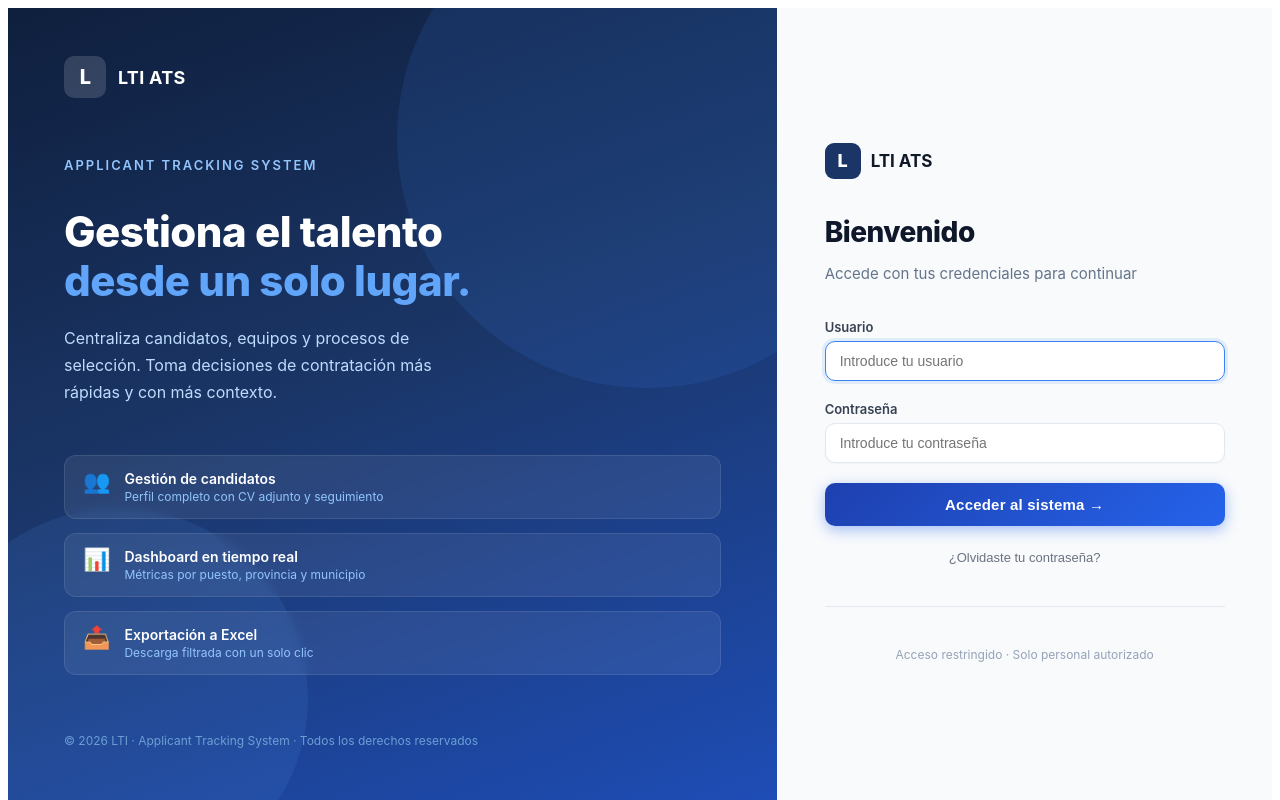
Scenario: LoginPage › shows a generic error when login fails
The width and height of the screenshot is (1280, 800).
In the field labelled "Usuario": point(1025, 360) [825,340,1225,380], type "admin"
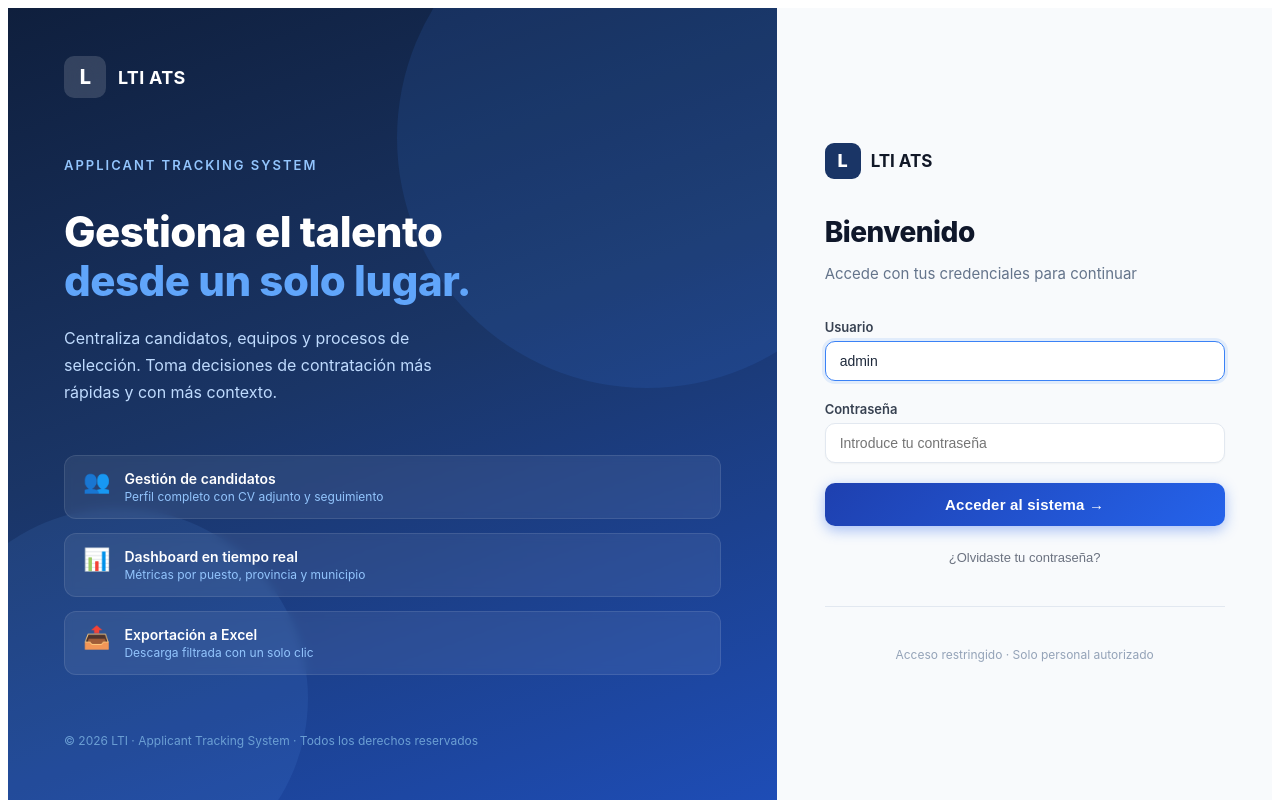
In the password field labelled "Contraseña": point(1025, 442) [825,422,1225,462], type "wrongpass"
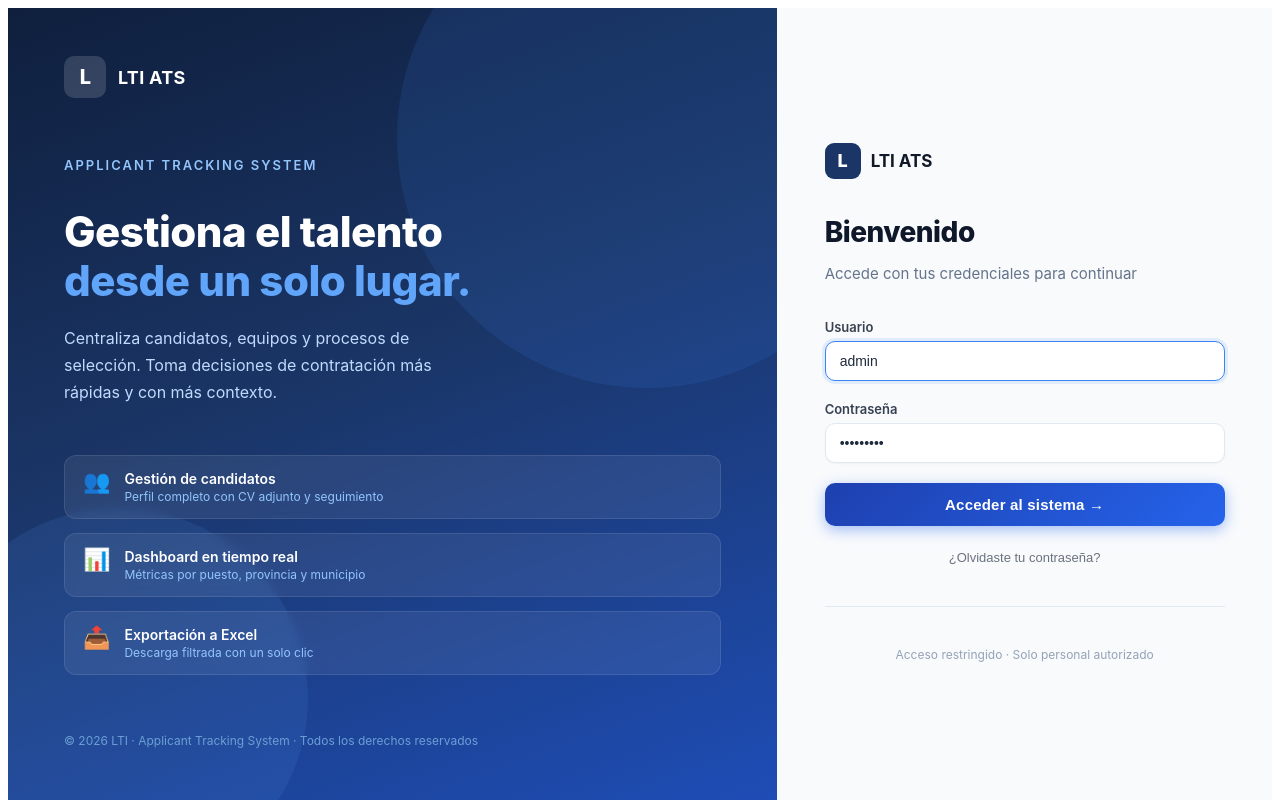
Click the button "Acceder al sistema →": point(1025, 504) [825,482,1225,526]
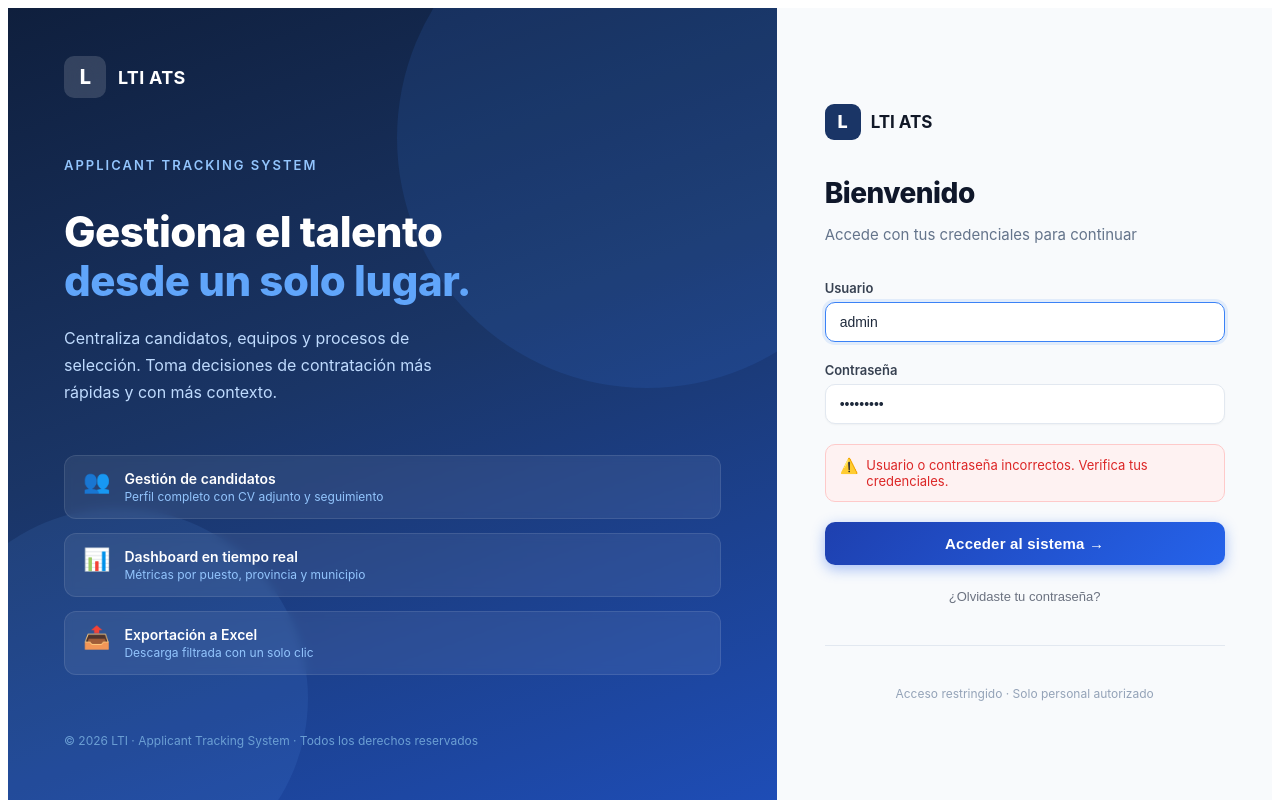
Expected: the message "⚠️ Usuario o contraseña incorrectos. Verifica tus credenciales." is shown, [825,444,1225,502]
Expected: the message shows "incorrectos", [866,456,1148,488]
